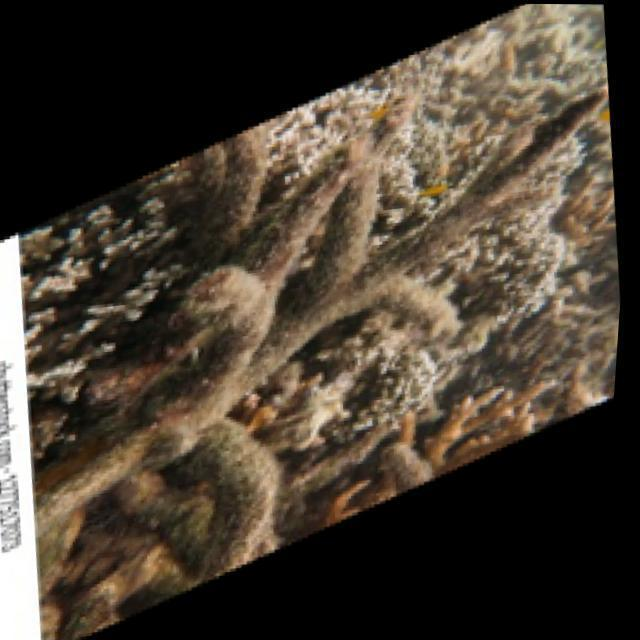Dead Coral: (16, 75, 636, 561)
